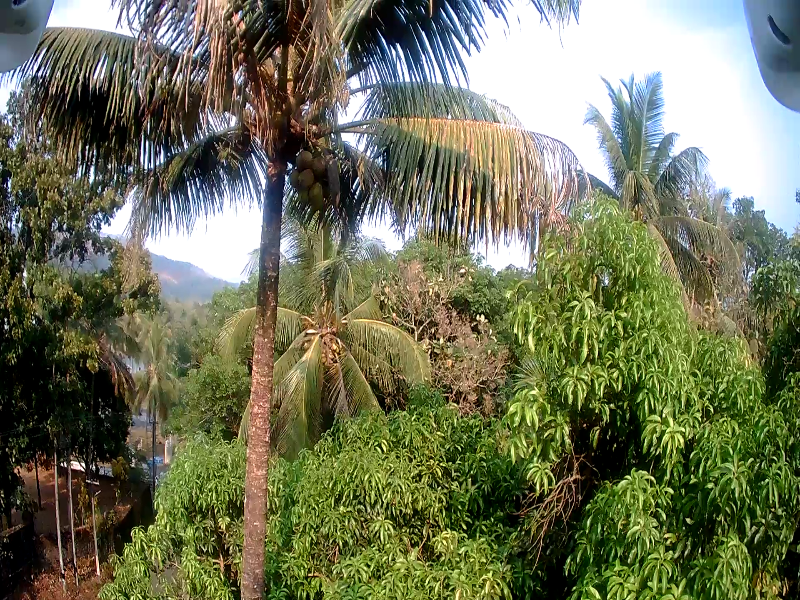coconut: (335, 92, 356, 110), (308, 190, 327, 207), (304, 170, 317, 187), (300, 154, 313, 169), (311, 153, 326, 166), (289, 169, 301, 185)
